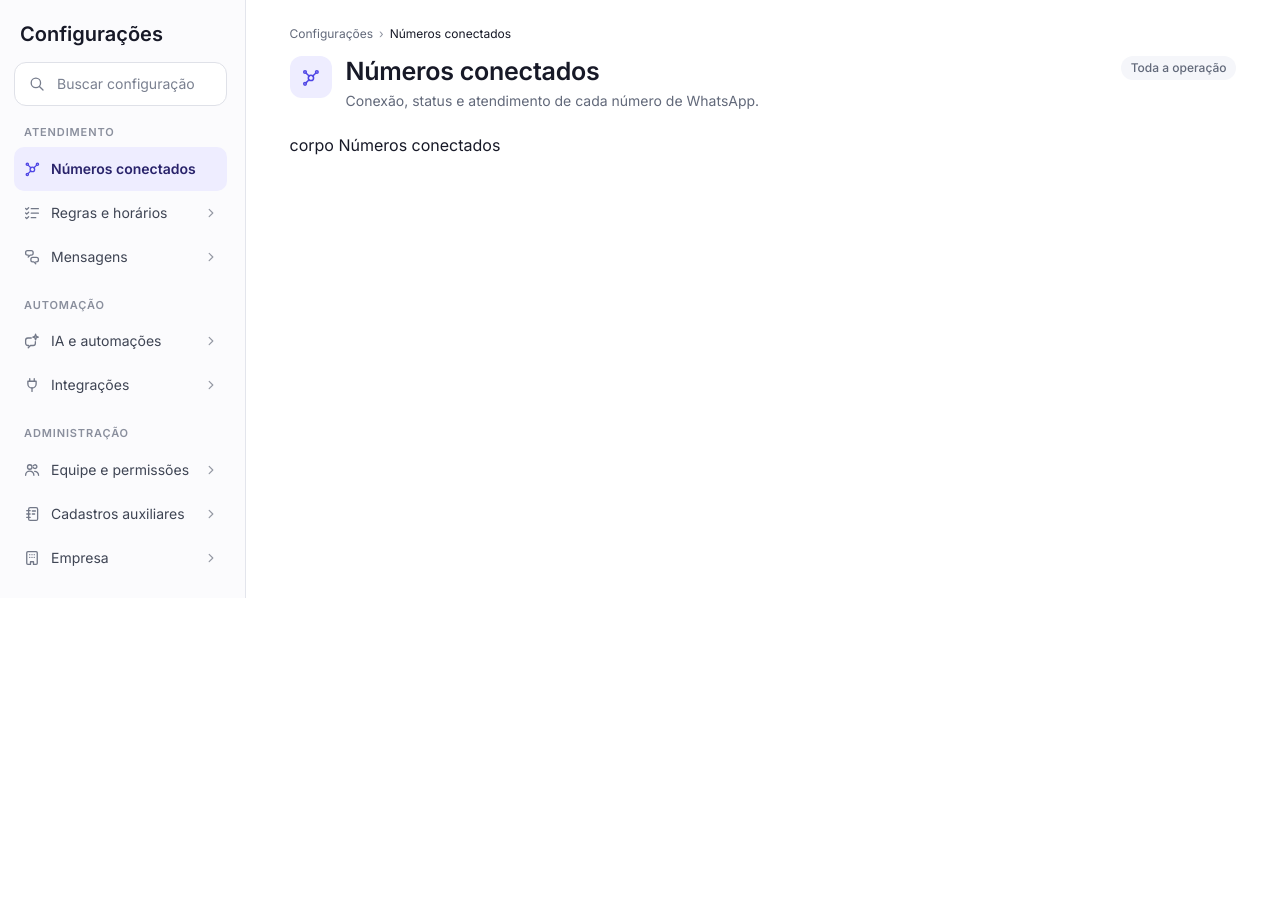
Test: SettingsLayout: diretório › Boas-vindas e Abertura e encerramento aparecem em Mensagens
Click the button "Mensagens": [120, 256] box [14,234,227,278]
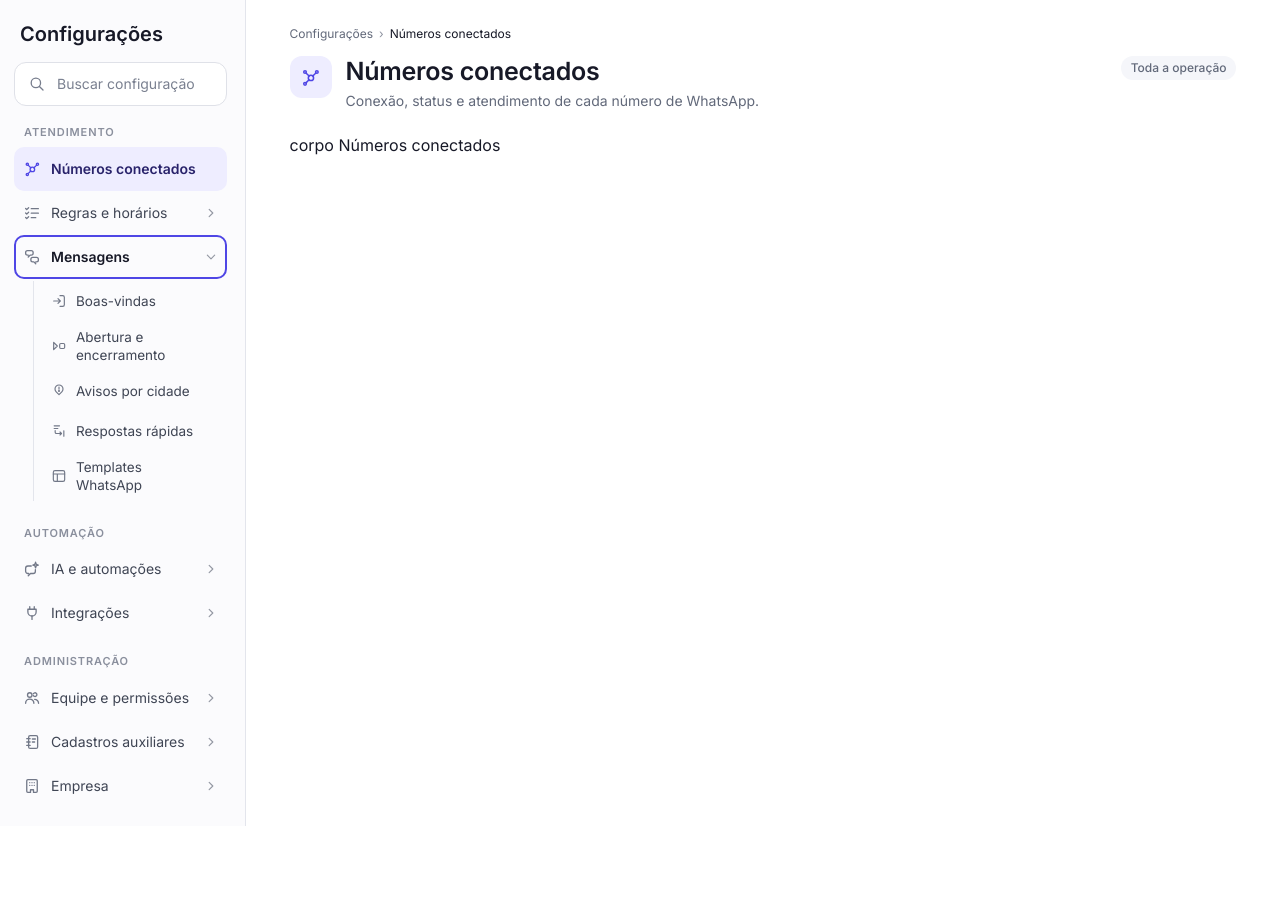
Now the links read "Boas-vindas", "Abertura e encerramento", "Avisos por cidade", "Respostas rápidas", "Templates WhatsApp", in this order, box [51,292,156,308]; [51,328,165,362]; [51,382,190,398]; [51,422,193,438]; [51,458,142,492]
